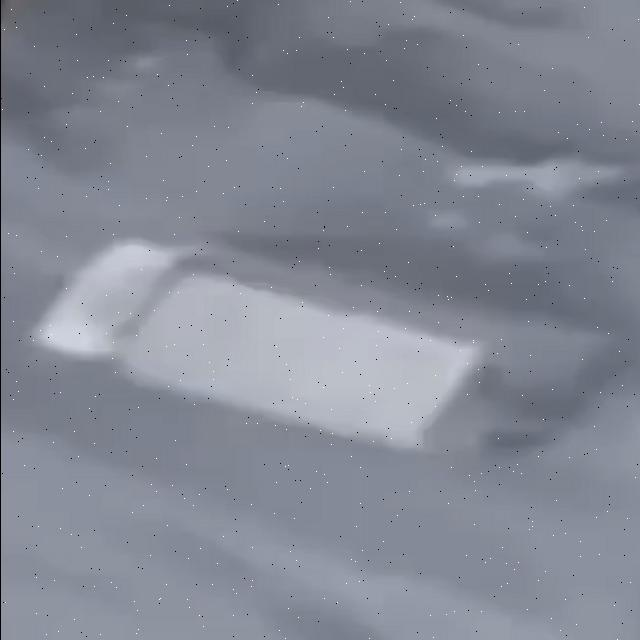TRUCK: (20, 233, 629, 462)
